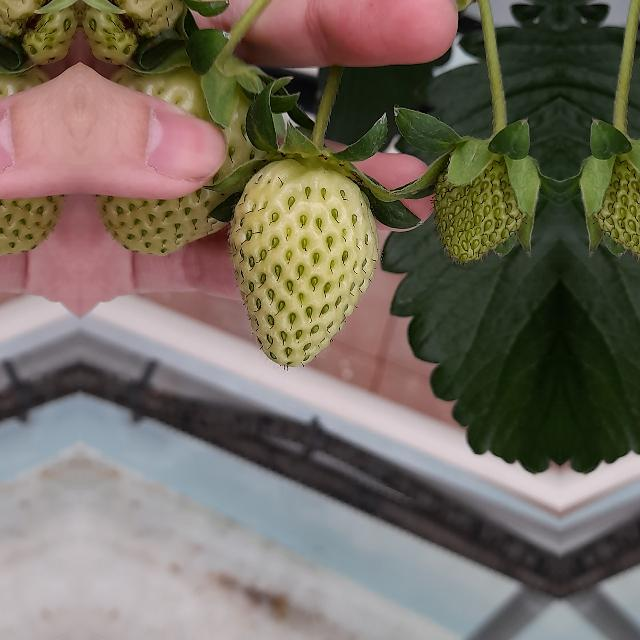Health_25: (100, 70, 292, 254), (228, 158, 378, 368), (421, 130, 542, 272), (0, 69, 60, 254), (578, 130, 640, 272)
